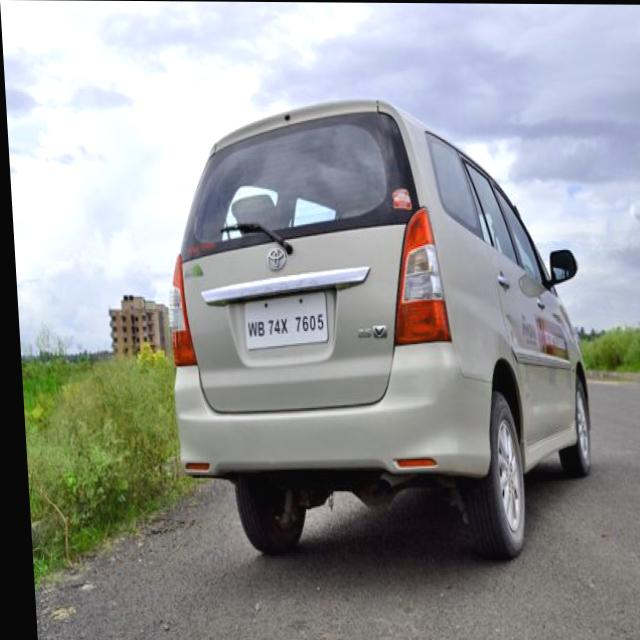0: (304, 315, 313, 331)
4: (270, 319, 278, 336)
5: (313, 313, 321, 331)
6: (297, 315, 306, 332)
7: (263, 319, 271, 337), (291, 314, 298, 333)
b: (253, 320, 262, 337)
w: (243, 320, 254, 338)
x: (276, 318, 285, 334)
